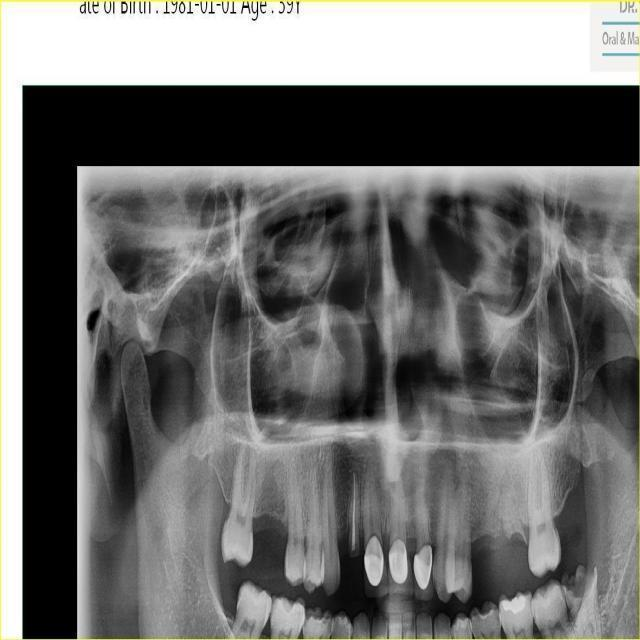Caries: (561, 566, 596, 604), (493, 611, 501, 629)
Crown: (387, 540, 415, 599), (363, 537, 388, 597), (412, 544, 434, 603)
Filling: (500, 594, 526, 616)
Missing teeth: (252, 522, 291, 558), (476, 538, 505, 578)
Root Piece: (500, 489, 529, 543), (348, 469, 361, 556)
